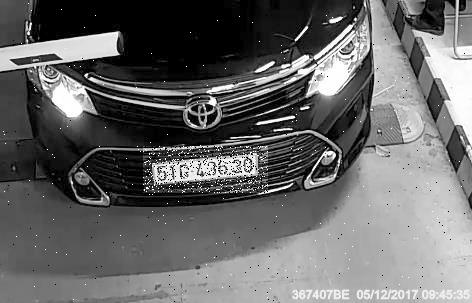License-plate: (144, 147, 269, 194)
